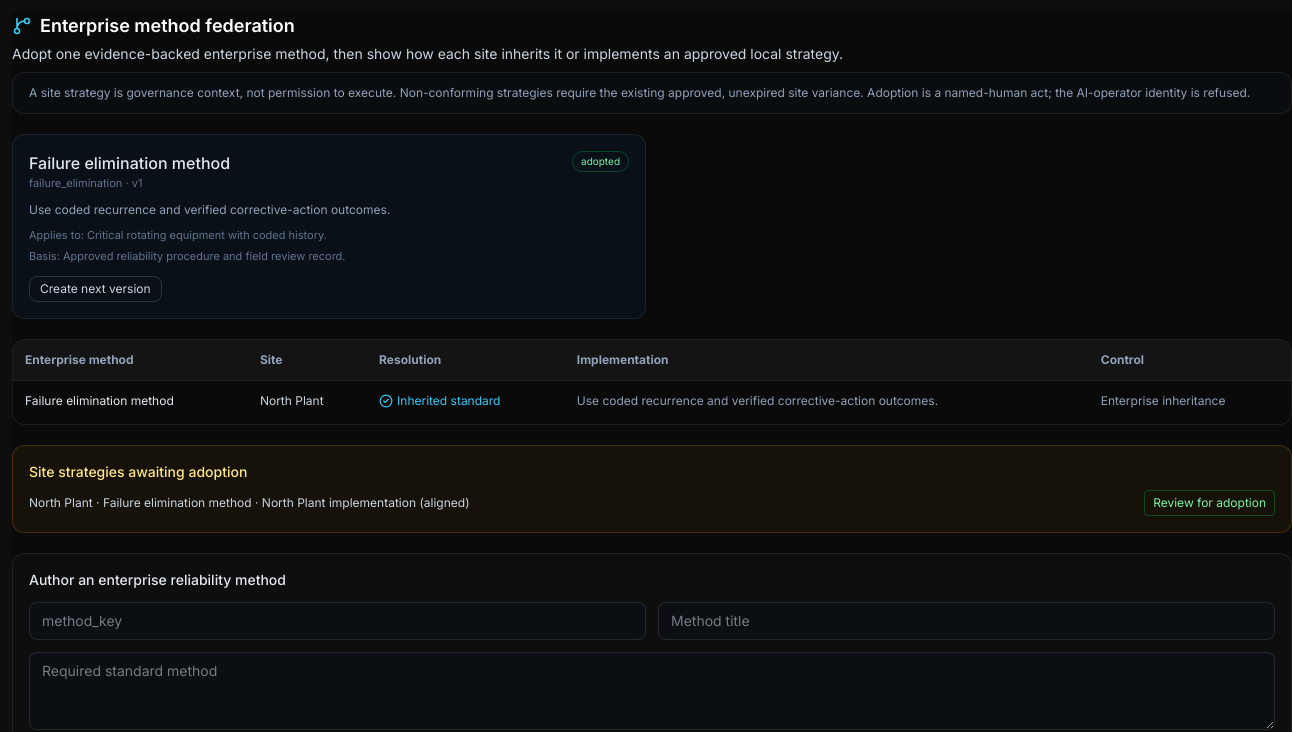
Test: EnterpriseMethodFederation › makes versioning the existing canonical method customer reachable
Step 1. Click the button "Create next version" → click(95, 289), box [29,276,162,302]
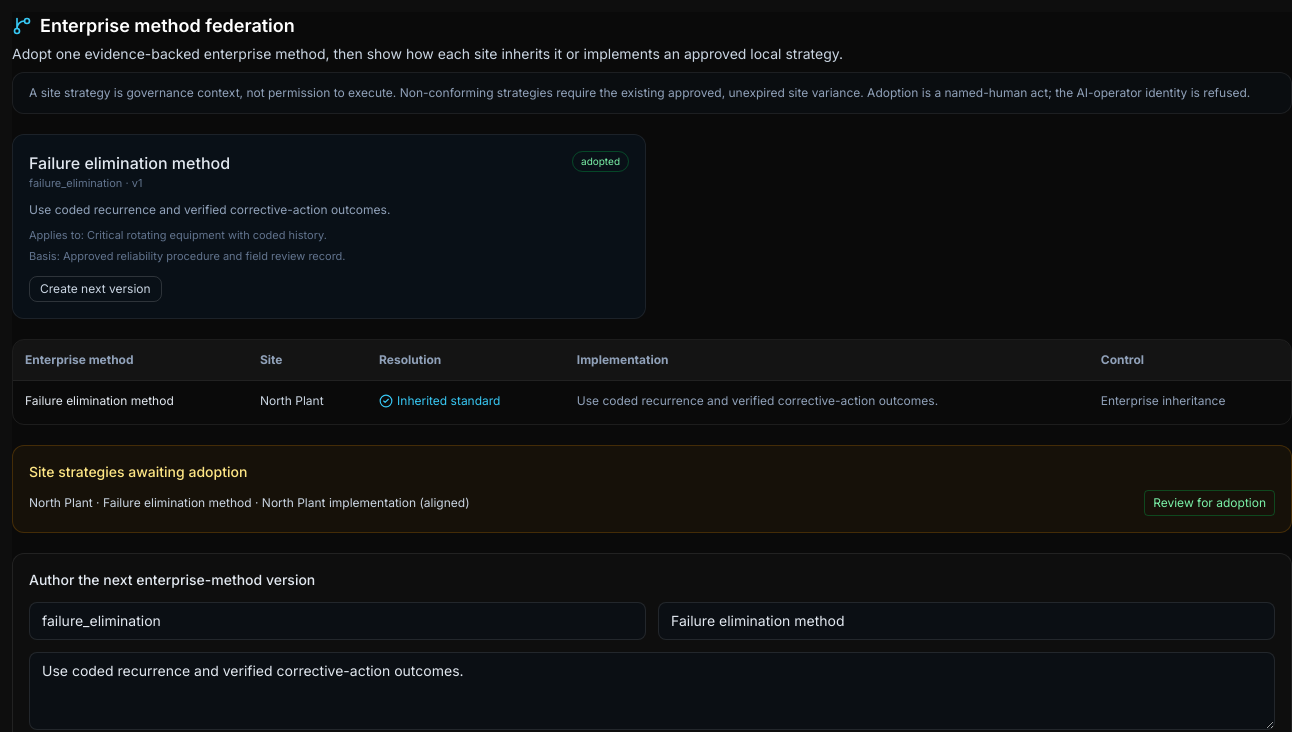
Expected: the heading "Author the next enterprise-method version" is shown, [29,571,315,588]
Expected: the field named "Method key" holds "failure_elimination", [29,602,646,640]
